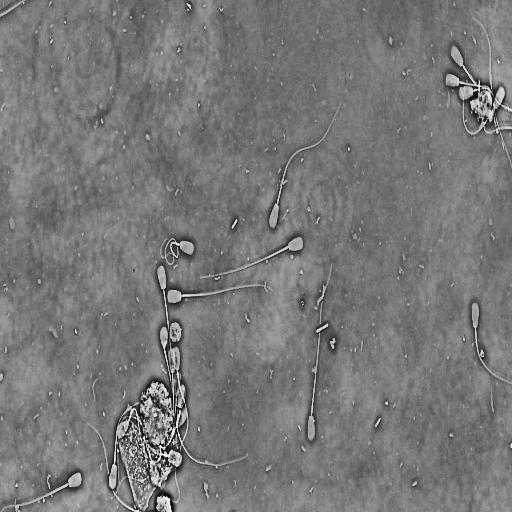coiled-tail: (158, 233, 181, 265)
dirt-particles: (115, 378, 183, 512), (469, 90, 495, 123), (154, 493, 174, 512), (168, 320, 183, 344)
folded-tail: (164, 238, 177, 256), (170, 241, 179, 258), (160, 239, 168, 258), (165, 253, 175, 265)
loose-tail: (86, 419, 142, 512), (470, 14, 512, 114)
normal: (267, 96, 346, 233), (173, 381, 251, 470), (306, 257, 335, 445), (197, 233, 306, 282), (162, 345, 191, 506), (470, 298, 512, 388), (0, 468, 85, 512), (107, 398, 143, 494), (165, 282, 275, 306), (156, 262, 175, 377), (158, 234, 195, 269)
